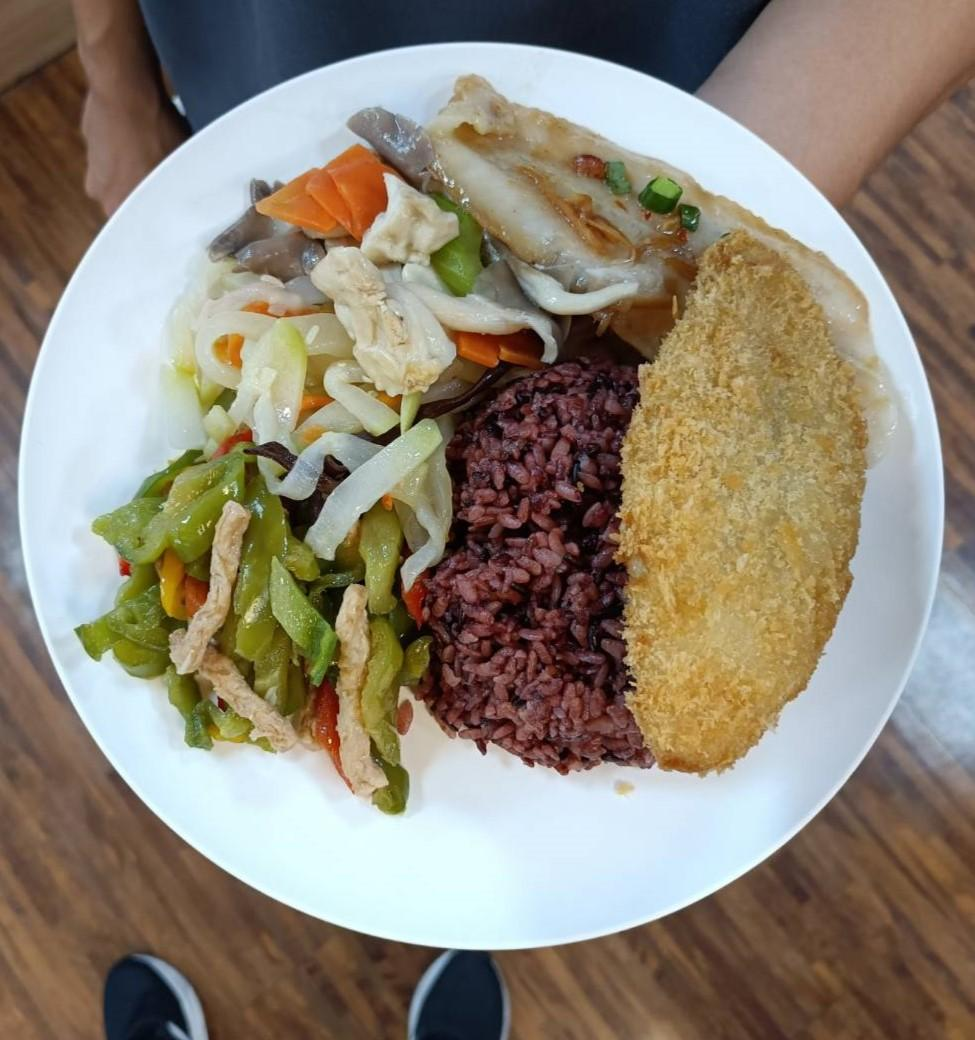big fried chicken leg: (28, 25, 955, 960)
braised fish: (423, 352, 645, 774)
braised fish fillet: (88, 423, 437, 812), (180, 154, 541, 443)
braised pork: (614, 231, 873, 788)
braised pork ribs: (426, 63, 911, 459)
